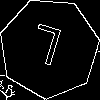L: (24, 23, 64, 75)
